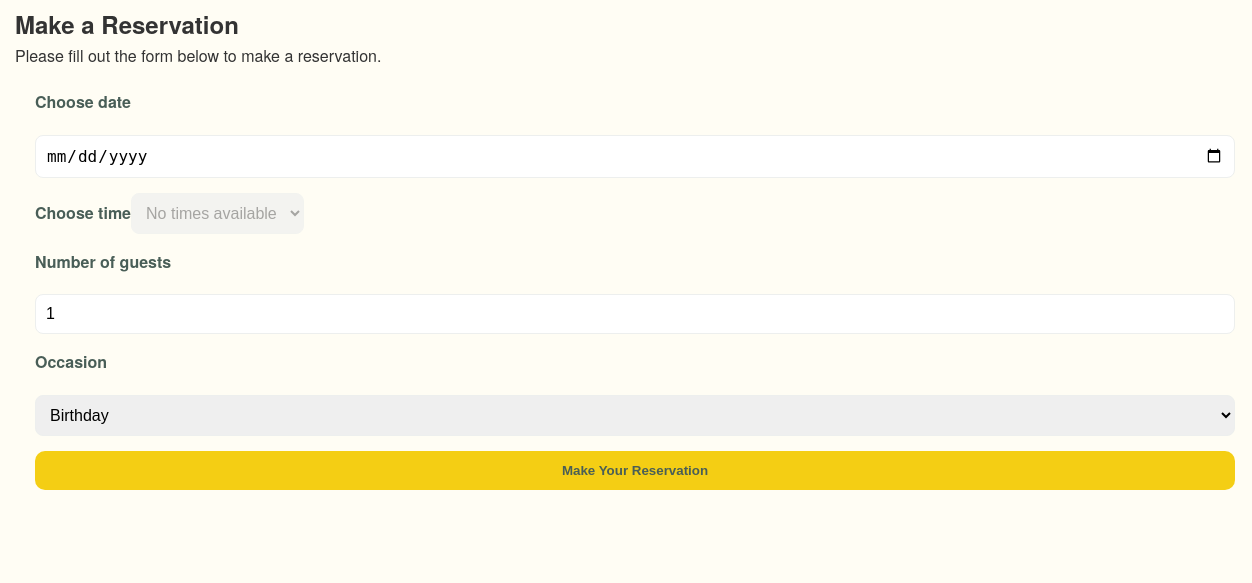
Scenario: ReservationForm › shows error messages when submitting empty form
Click the button showing "make your reservation".
click(635, 470)  # box 35,451 -> 1235,490
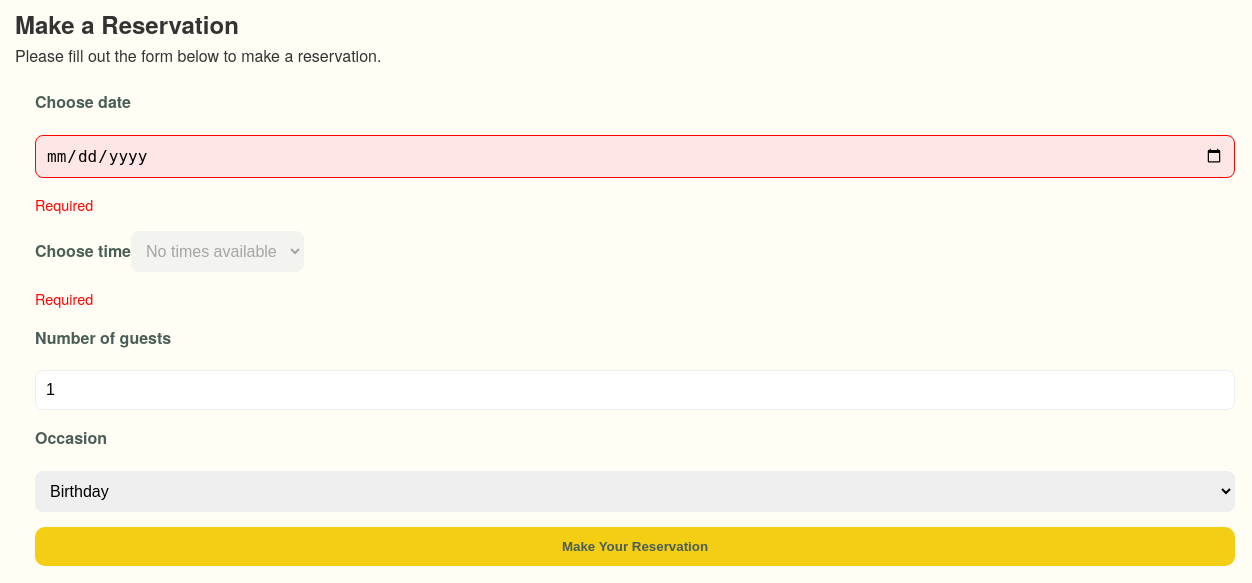
Expected: the text "Required" is shown 2 times, 35,194 -> 93,215; 35,288 -> 93,309
